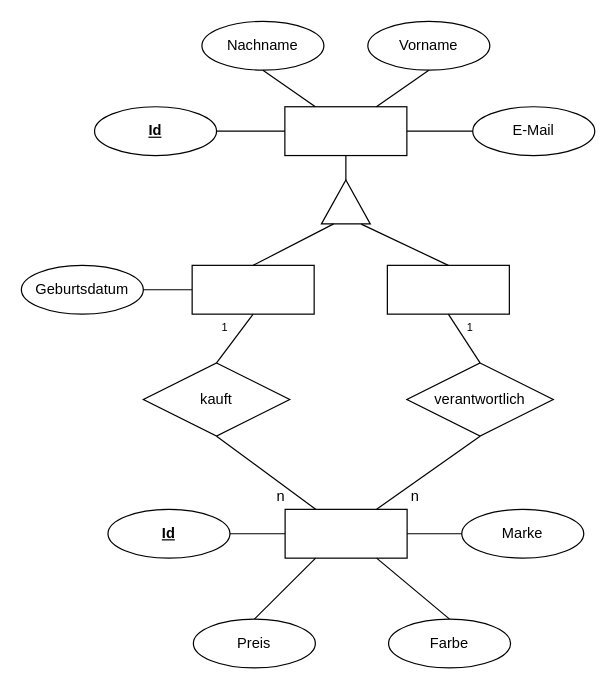
The diagram is 616 pixels wide and 689 high, and some of its shapes have lost their labels. The shapes that lost their labels are listed below. From the top down, each one's box as (x1, y1, x2, y2) in pixels, then its label:
(284, 106, 407, 156): Person
(191, 264, 314, 314): Kunde
(386, 264, 509, 314): Mitarbeiter
(284, 508, 407, 558): Auto
